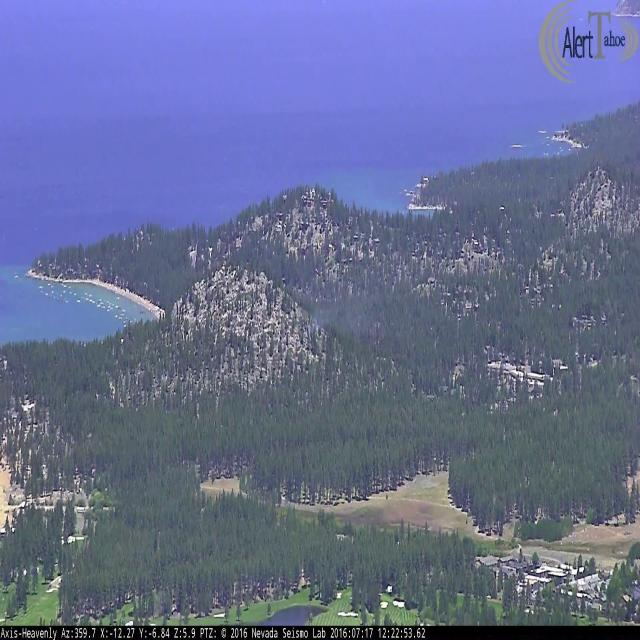smoke: (307, 268, 408, 336)
